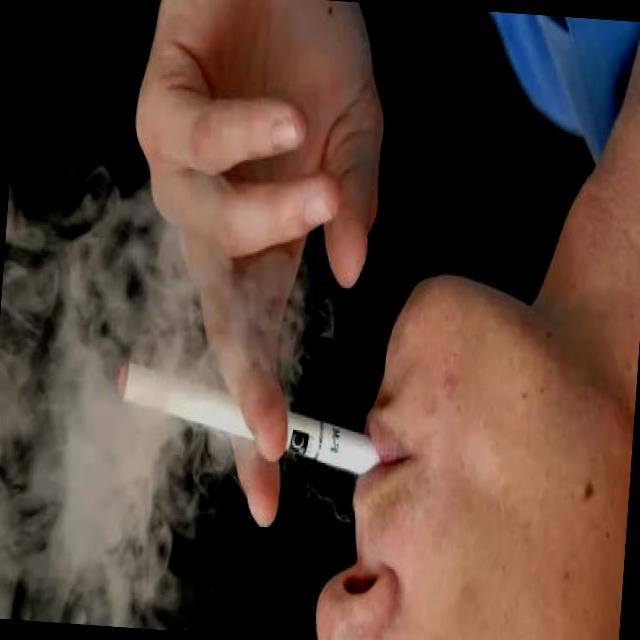cigarette: (106, 350, 388, 480)
